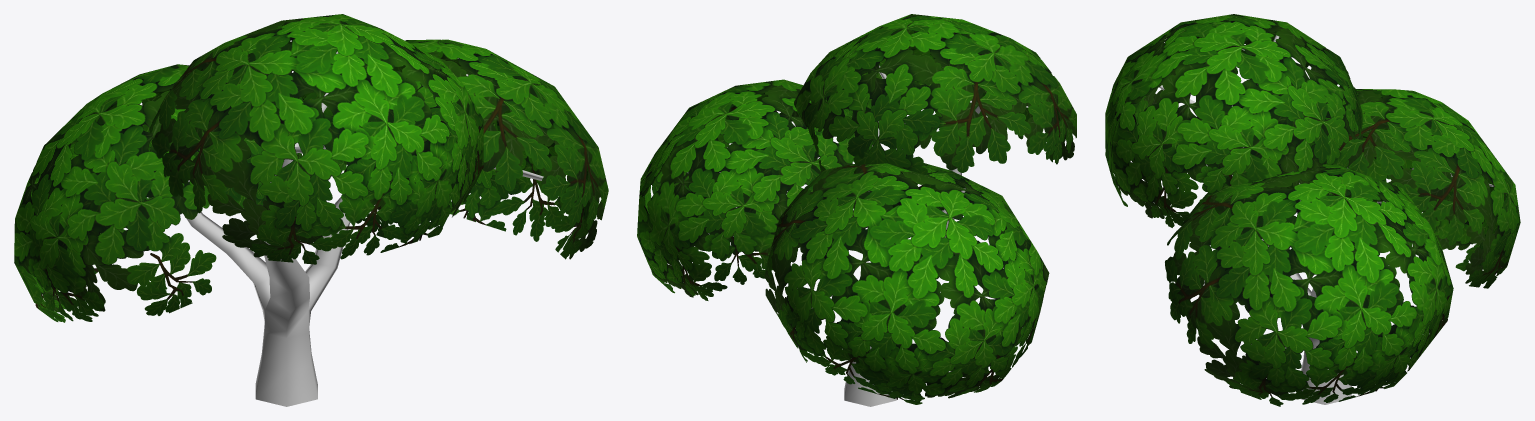
The model's file is street_vegetation_park_tree_kashtan.FBX.
3 views of the same model, side by side, from view 1: azimuth 30°, elevation 25°; view 2: azimuth 150°, elevation 25°; view 3: azimuth 270°, elevation 25° (orthographic). The views are drawn at different scales.
Parts seen in each view (by area): view 1: street_vegetation_park_tree_kashtan_leaf, street_vegetation_park_tree_kashtan_bark; view 2: street_vegetation_park_tree_kashtan_leaf, street_vegetation_park_tree_kashtan_bark; view 3: street_vegetation_park_tree_kashtan_leaf, street_vegetation_park_tree_kashtan_bark.
Part boxes in pixels (x1=…): street_vegetation_park_tree_kashtan_leaf: x1=14, y1=14, x2=608, y2=322; street_vegetation_park_tree_kashtan_bark: x1=186, y1=51, x2=543, y2=406; street_vegetation_park_tree_kashtan_leaf: x1=637, y1=14, x2=1076, y2=404; street_vegetation_park_tree_kashtan_bark: x1=687, y1=65, x2=980, y2=406; street_vegetation_park_tree_kashtan_leaf: x1=1105, y1=14, x2=1520, y2=406; street_vegetation_park_tree_kashtan_bark: x1=1159, y1=35, x2=1494, y2=404.
Size of the model in its own units: 302 by 234 by 251.
